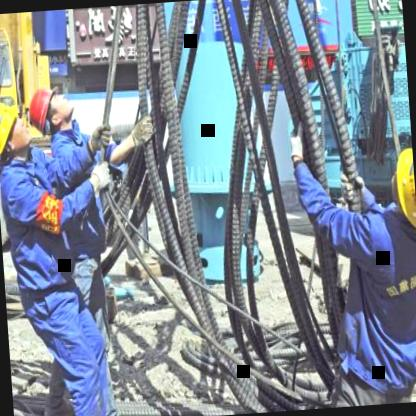helmet: (386, 143, 416, 230), (27, 90, 74, 135), (0, 97, 29, 164)
